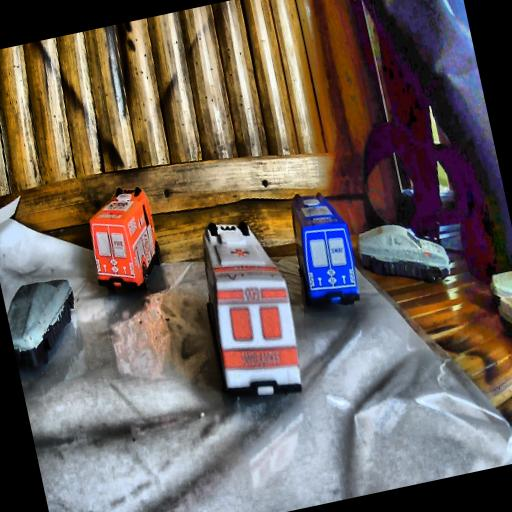ambulance: (184, 210, 310, 408)
fire_truck: (78, 180, 167, 300)
normal_car: (1, 271, 90, 375), (354, 210, 454, 298), (485, 267, 512, 380)
police car: (280, 185, 362, 315)
